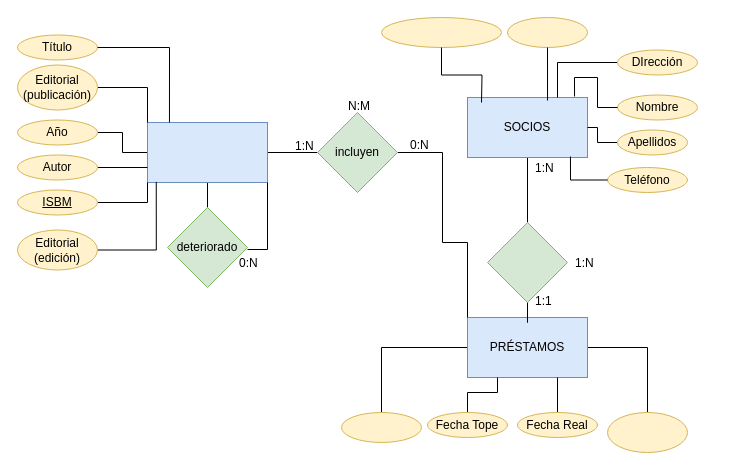
This 735x470 diagram has some shape labels left out. Here are the shapes that lost their labels. From the top down, the centre of each, then its label:
At pixel 441 32: "Código de socio".
At pixel 547 32: "DNI".
At pixel 207 152: "LIBROS".
At pixel 527 262: "realizan".
At pixel 381 427: "ID".
At pixel 647 432: "Fecha Préstamo".
